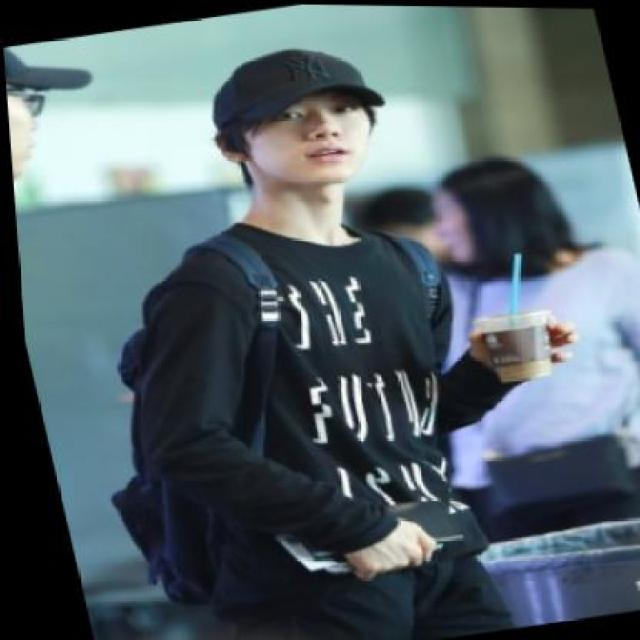hat: (194, 34, 392, 141)
